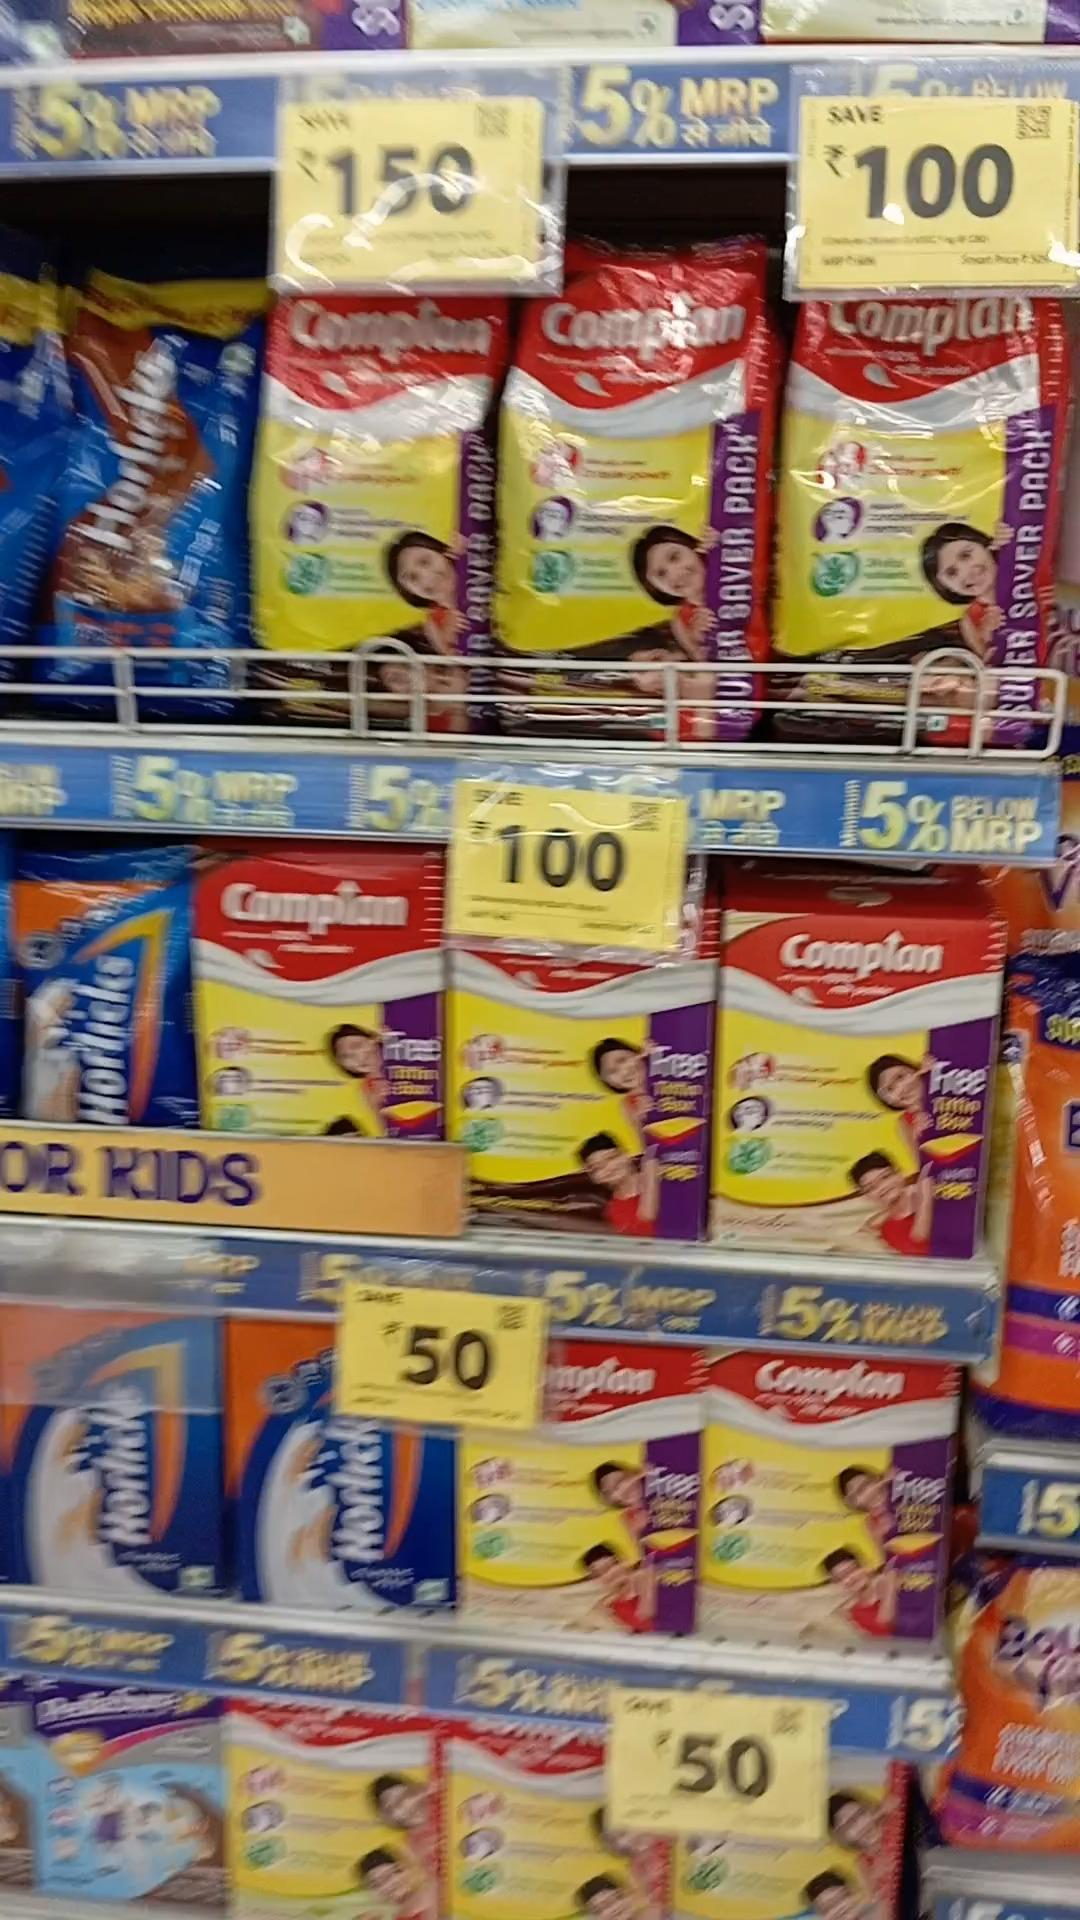COMPLAN_CHOCOLATE_500_GMS_PACK: (452, 890, 705, 1226), (199, 848, 451, 1155)
COMPLAN_KESAR_BADAM_500_GMS_PACK: (719, 916, 988, 1259), (700, 1357, 944, 1654), (459, 1348, 692, 1639)
COMPLAN_RC_POUCH_700_GMS_12: (781, 274, 1071, 746), (498, 239, 765, 736), (247, 278, 491, 731)
HORLICK_CHOCOLATE_750_G_POUCH: (42, 273, 251, 723)
HORLICK_CLASSIC_MALT_500_G_PACK: (0, 1309, 212, 1590), (228, 1393, 455, 1617)
HORLICK_CLASSIC_MALT_750_G_POUCH: (7, 857, 190, 1143)
PEDIASURE_7_PLUS_CHOCOLATE_400_G_PACK: (37, 1681, 229, 1909)
